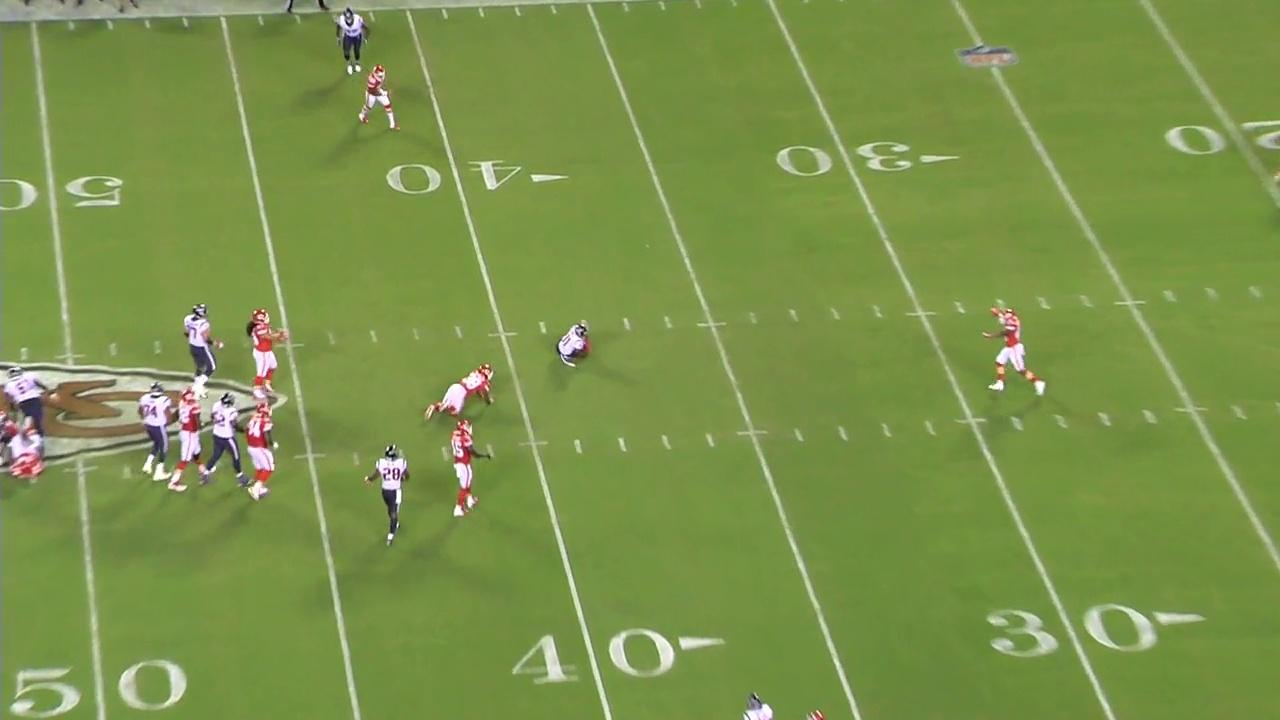five_hash: (731, 427, 774, 440), (483, 327, 520, 341), (952, 416, 991, 428), (1111, 297, 1149, 309), (55, 352, 90, 365), (62, 464, 100, 475), (693, 320, 731, 331), (1171, 404, 1210, 414), (292, 451, 330, 461), (515, 438, 553, 448), (903, 309, 940, 319), (271, 342, 307, 351)
hash: (1140, 404, 1162, 428), (919, 416, 941, 439), (1075, 290, 1098, 311), (1094, 409, 1115, 432), (1006, 411, 1029, 432), (699, 431, 722, 452), (1047, 410, 1069, 431), (657, 431, 678, 453), (831, 423, 853, 443), (570, 437, 590, 459), (117, 461, 136, 484), (613, 433, 631, 457), (785, 306, 805, 327), (950, 298, 971, 318), (1033, 292, 1053, 313), (876, 421, 897, 441), (347, 448, 366, 470), (105, 339, 123, 361), (148, 337, 166, 358), (365, 327, 383, 348), (534, 318, 555, 336), (449, 322, 467, 342), (660, 313, 677, 332), (828, 303, 844, 323), (744, 310, 761, 328), (869, 304, 886, 322), (1162, 288, 1179, 306), (619, 315, 635, 334), (790, 426, 807, 441)
number: (5, 653, 190, 720), (981, 598, 1162, 663), (508, 625, 679, 688), (384, 156, 526, 198), (773, 139, 918, 180)
